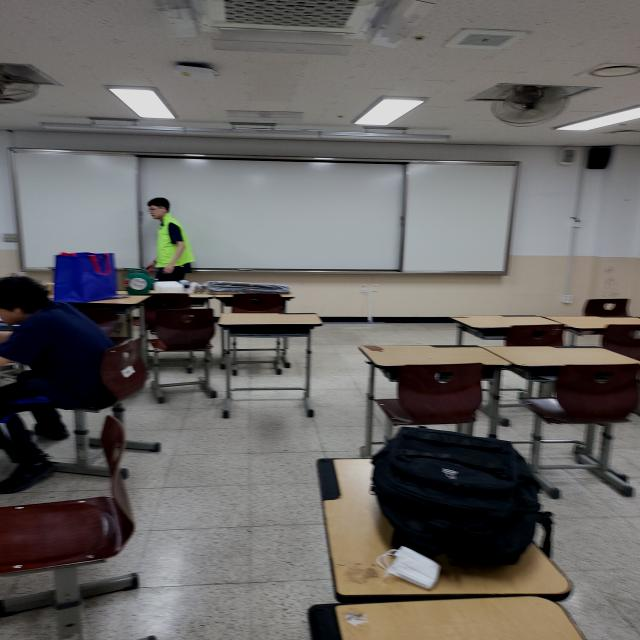weston_spy: (144, 209, 198, 276)
